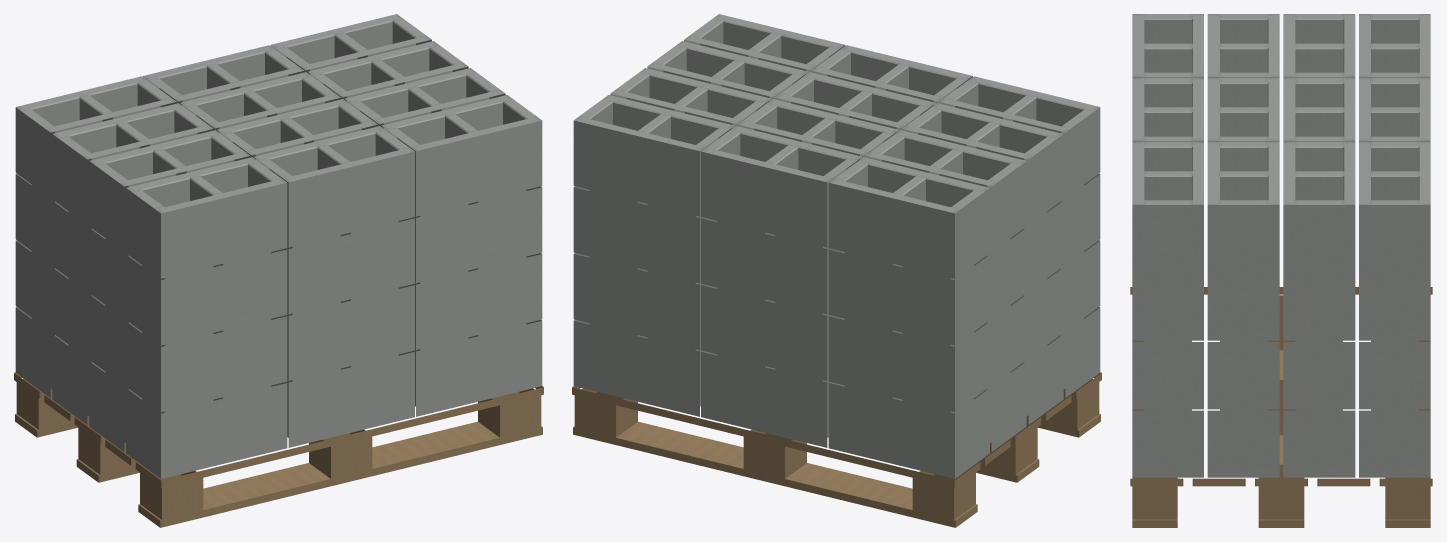
The model's file is 15_pallet_concrete_blocks_double.glb.
3 renders of one model, left to right at view 1: azimuth 30°, elevation 25°; view 2: azimuth 150°, elevation 25°; view 3: azimuth 270°, elevation 25°, orthographic. The views are drawn at different scales.
Parts seen in each view (by area): view 1: 15_pallet_concrete_blocks_double; view 2: 15_pallet_concrete_blocks_double; view 3: 15_pallet_concrete_blocks_double.
Boxes of the visible parts, x1,y1,x2,y2 form: 15_pallet_concrete_blocks_double: [14, 14, 543, 527]; 15_pallet_concrete_blocks_double: [572, 14, 1101, 527]; 15_pallet_concrete_blocks_double: [1130, 14, 1432, 527].
Bounding box in the file's own units: 1.2 × 0.942 × 0.8.
1 material, 1 textured.
